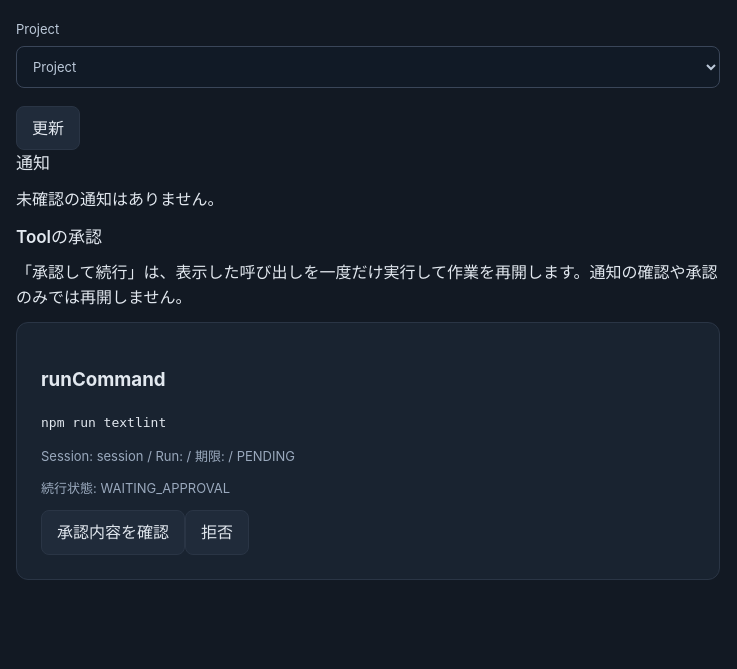
Test: continues only the reviewed saved invocation and suppresses duplicate clicks
Click the button "承認内容を確認" at (113, 533), box [41,510,185,555]
(page scrolled)
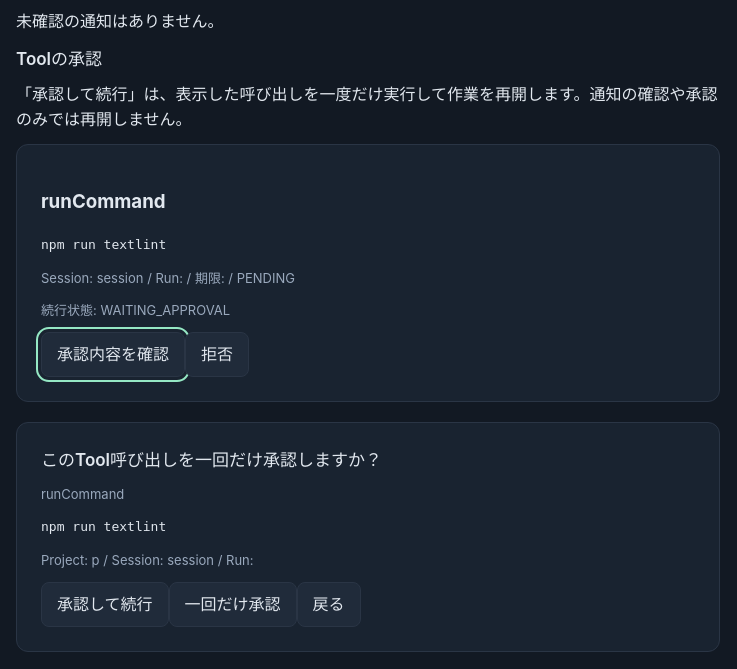
Expected: the text "npm run textlint" is shown 2 times, [41,237,166,252]; [41,519,166,534]
Double-click the button "承認して続行" at (105, 604), box [41,582,168,627]
(page scrolled)
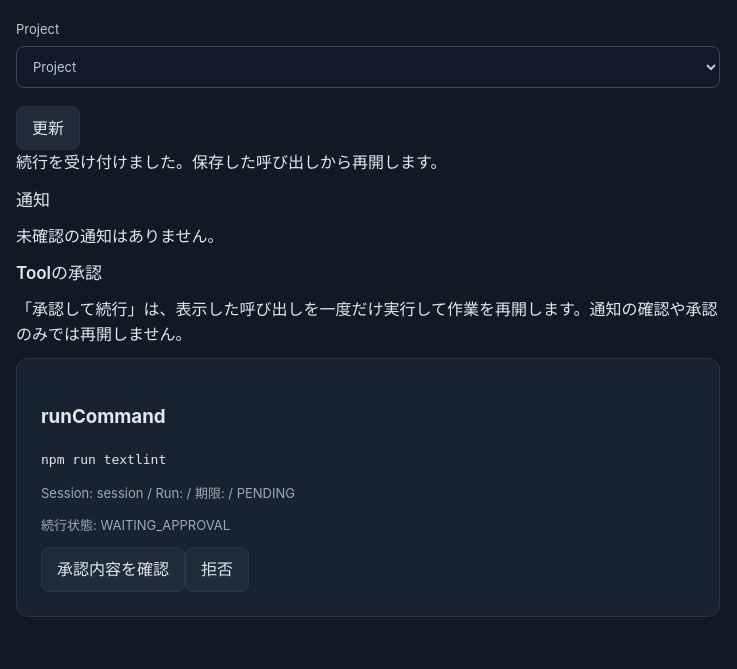
Expected: the text "続行を受け付けました。保存した呼び出しから再開します。" is shown, [16,152,446,172]
